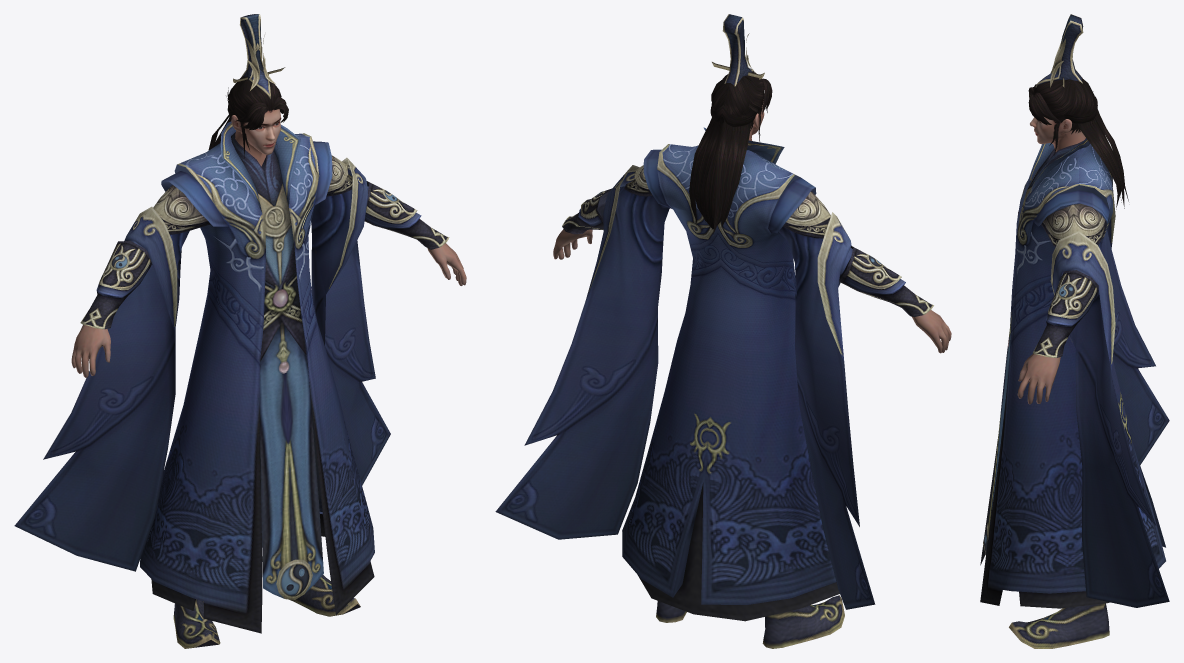
The model's file is 修仙者.FBX.
3 renders of one model, left to right at view 1: azimuth 30°, elevation 25°; view 2: azimuth 150°, elevation 25°; view 3: azimuth 270°, elevation 25°, orthographic. The views are drawn at different scales.
Visible parts, largest first — view 1: Male_Rz_57; view 2: Male_Rz_57; view 3: Male_Rz_57.
Boxes of the visible parts, x1,y1,x2,y2 form: Male_Rz_57: (14, 14, 466, 648); Male_Rz_57: (495, 14, 951, 648); Male_Rz_57: (980, 14, 1169, 648).
Size of the model in its own units: 3.81 by 5.66 by 1.64.
